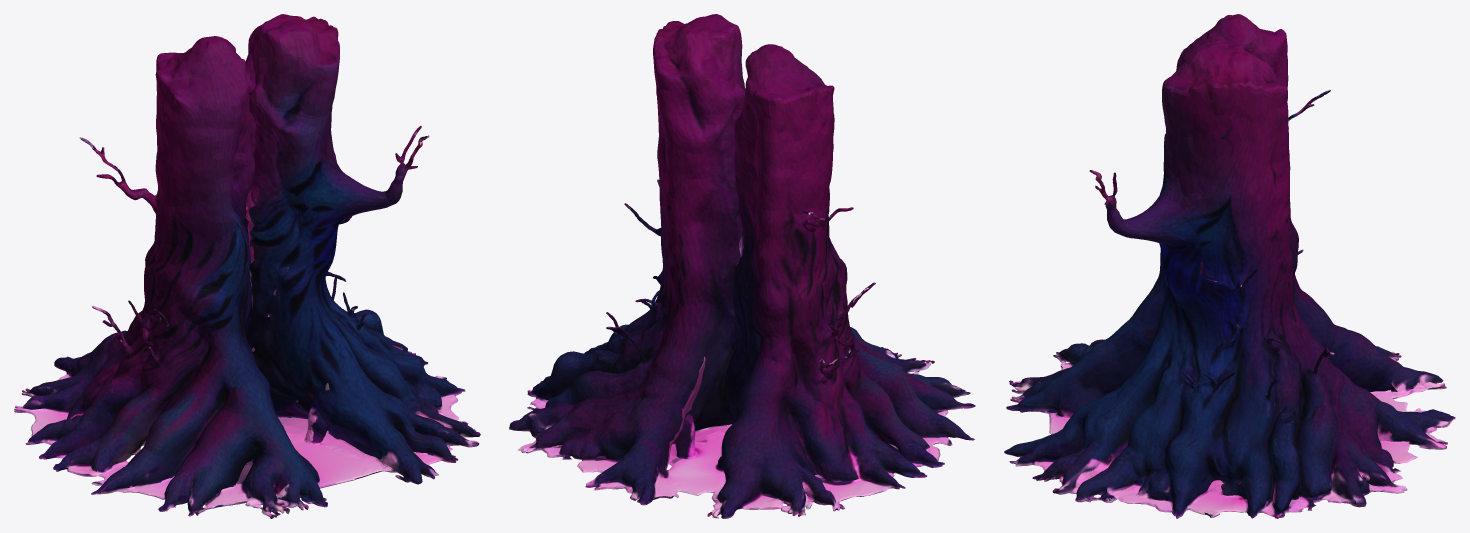
File: root-southwest-texture-wrap-2026-05-14T23-29-25-386Z.glb
3 views of the same model, side by side, from view 1: azimuth 30°, elevation 25°; view 2: azimuth 150°, elevation 25°; view 3: azimuth 270°, elevation 25° (orthographic).
Parts seen in each view (by area): view 1: temp_mesh.ply; view 2: temp_mesh.ply; view 3: temp_mesh.ply.
Part boxes in pixels (x1,y1,x2,y2): temp_mesh.ply: [14, 14, 480, 518]; temp_mesh.ply: [509, 14, 975, 518]; temp_mesh.ply: [1004, 14, 1455, 518].
Bounding box in the file's own units: 1.97 × 1.9 × 1.95.
Materials: 1 (1 with a texture image).
